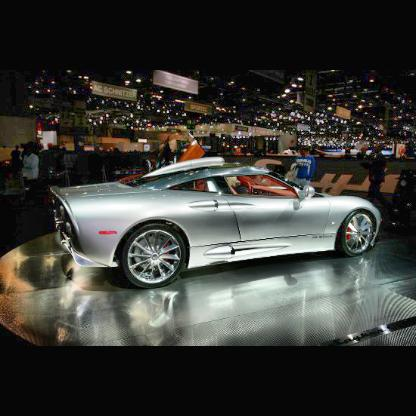Spyker C8 Coupe 2009: (51, 158, 383, 288)
